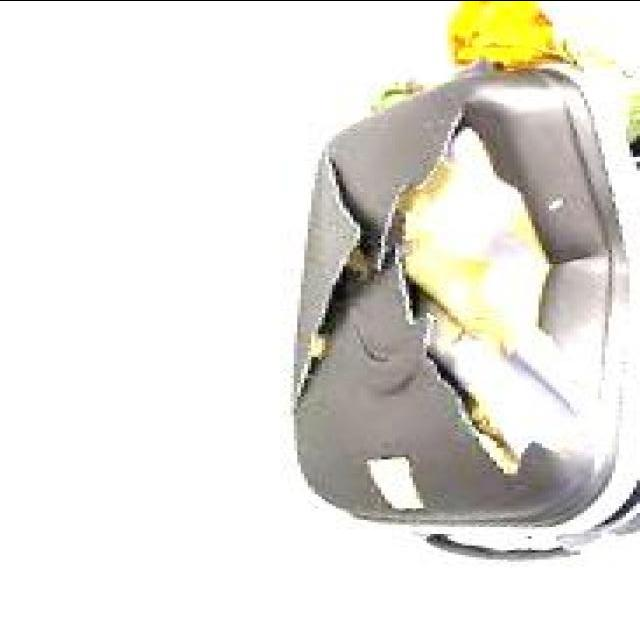Damage-bag: (295, 110, 601, 471)
